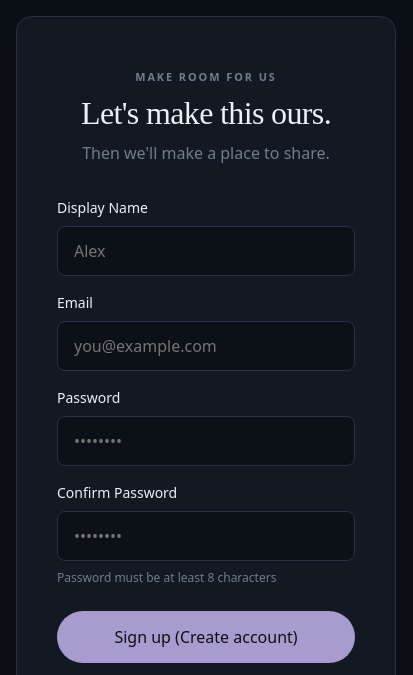
Test: Authentication Pages › Signup Page › shows error for invalid email
This screenshot has width=413, height=675.
Step 1. Type "Test User" into the field labelled "Display Name" → [206, 251], box [57,226,355,276]
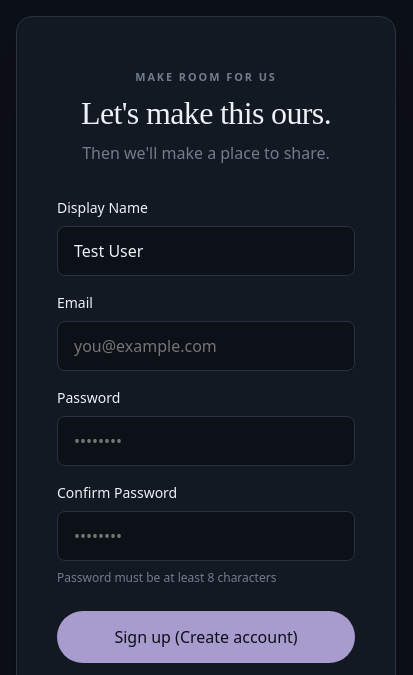
Step 2. Type "invalid-email" into the field labelled "Email" → [206, 346], box [57,321,355,371]
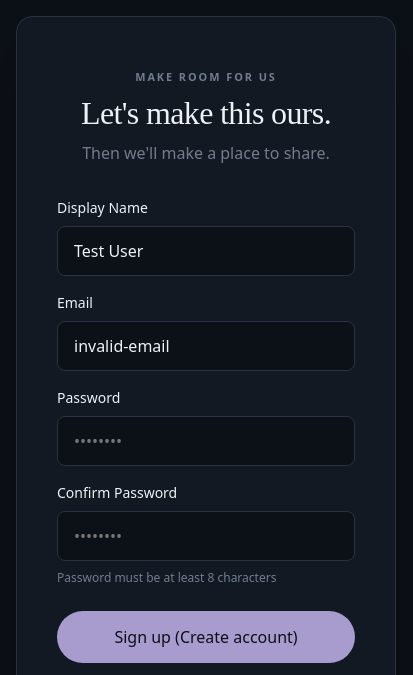
Step 3. Type "password123" into the password field labelled "Password" → [206, 441], box [57,416,355,466]
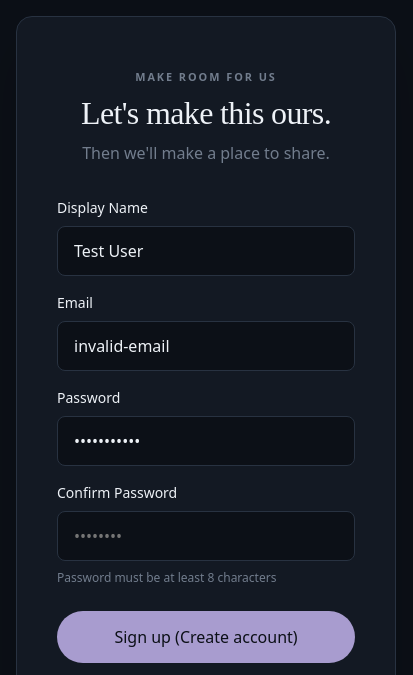
Step 4. Type "password123" into the password field labelled "Confirm Password" → [206, 536], box [57,511,355,561]
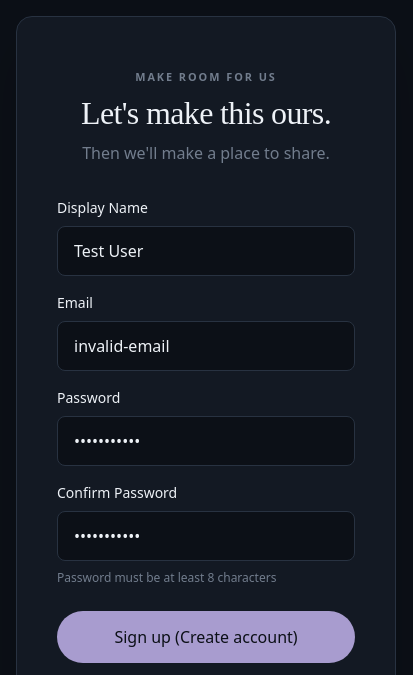
Step 5. Click the button "Sign up (Create account)" → [206, 637], box [57,611,355,663]
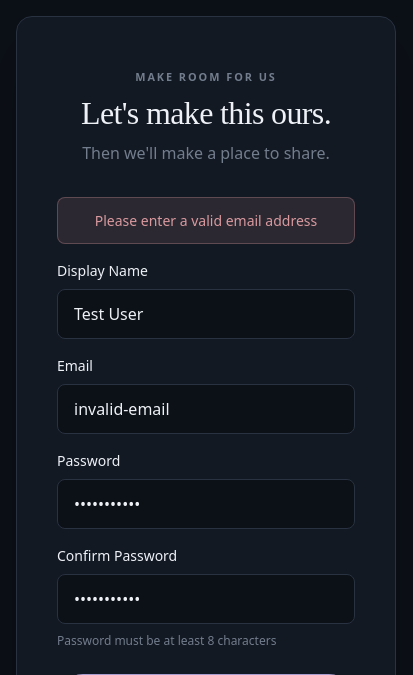
Expected: the message shows "valid email address", [95,211,317,230]
